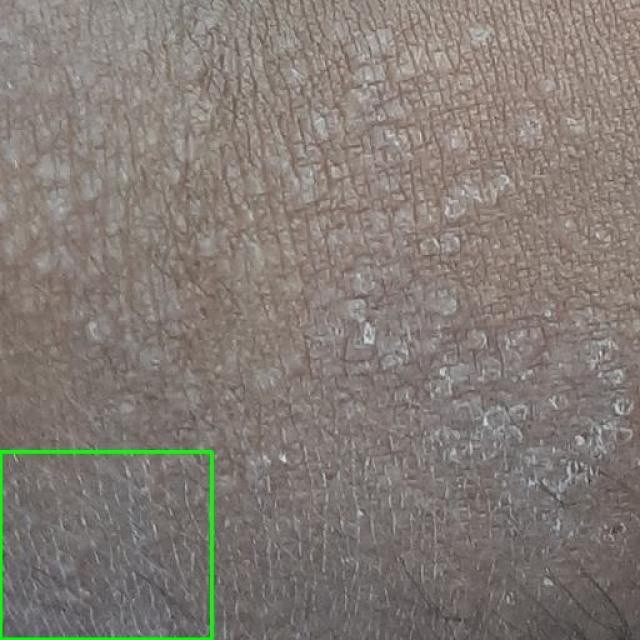Atopic Dermatitis: (0, 451, 211, 639)
